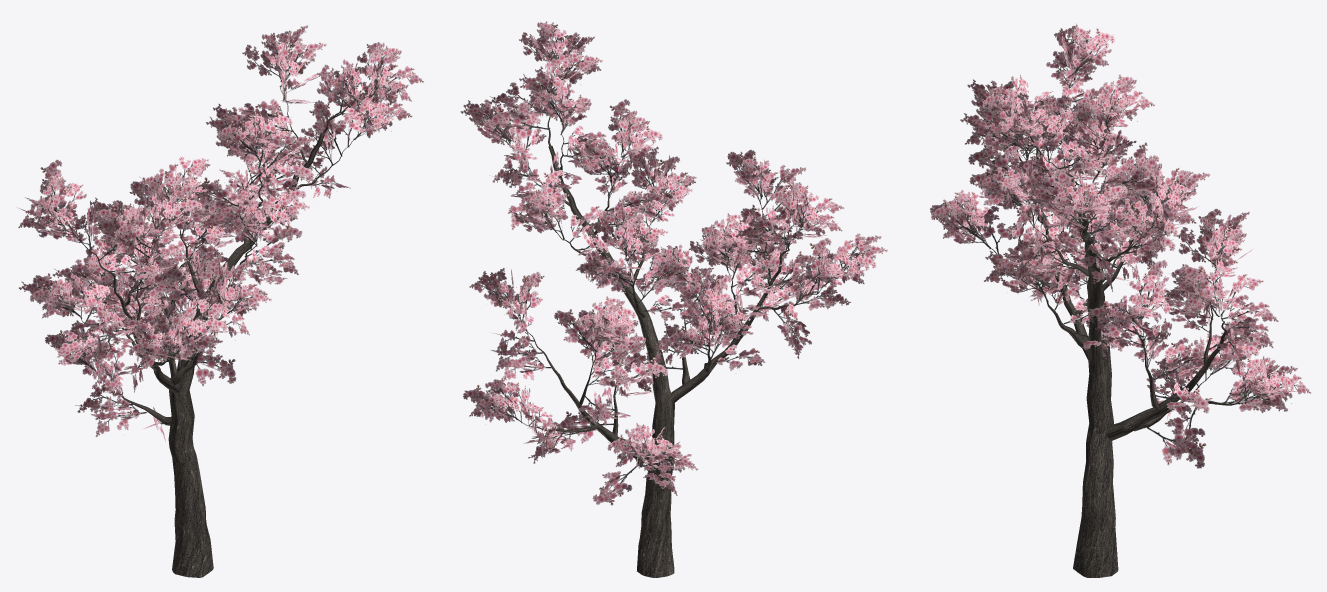
The model's file is sakura.glb.
3 renders of one model, left to right at view 1: azimuth 30°, elevation 25°; view 2: azimuth 150°, elevation 25°; view 3: azimuth 270°, elevation 25°, orthographic. The views are drawn at different scales.
Visible parts, largest first — view 1: LOD_0; view 2: LOD_0; view 3: LOD_0.
Boxes of the visible parts, <box> form: LOD_0: <box>18,25,423,577</box>; LOD_0: <box>460,21,887,577</box>; LOD_0: <box>930,23,1311,577</box>.
Size of the model in its own units: 12.27 by 14.66 by 9.31.
Materials: 2 (2 with a texture image).
